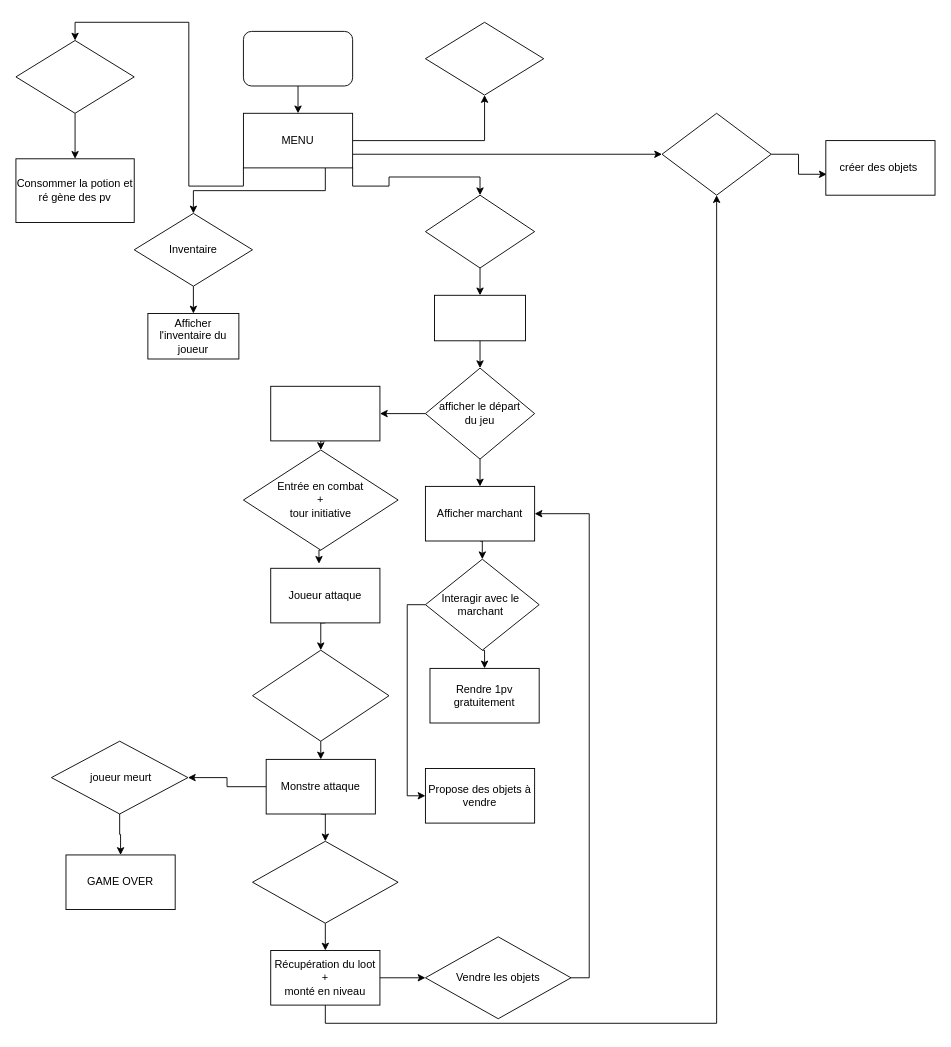
This 951x1047 diagram has some shape labels left out. The shapes that lost their labels are listed below. From the top down, each one's centre as x and y in pixels, then its label:
the point at 74,76: Utiliser Potion
the point at 298,58: START
the point at 484,58: LEAVE
the point at 716,153: craft des objets
the point at 480,231: Afficher info joueur
the point at 480,317: Afficher les infos du joueur
the point at 325,413: Rencontre avec des monstres
the point at 320,695: Tour fini passe au tour des monstres
the point at 325,881: monstre meurt
